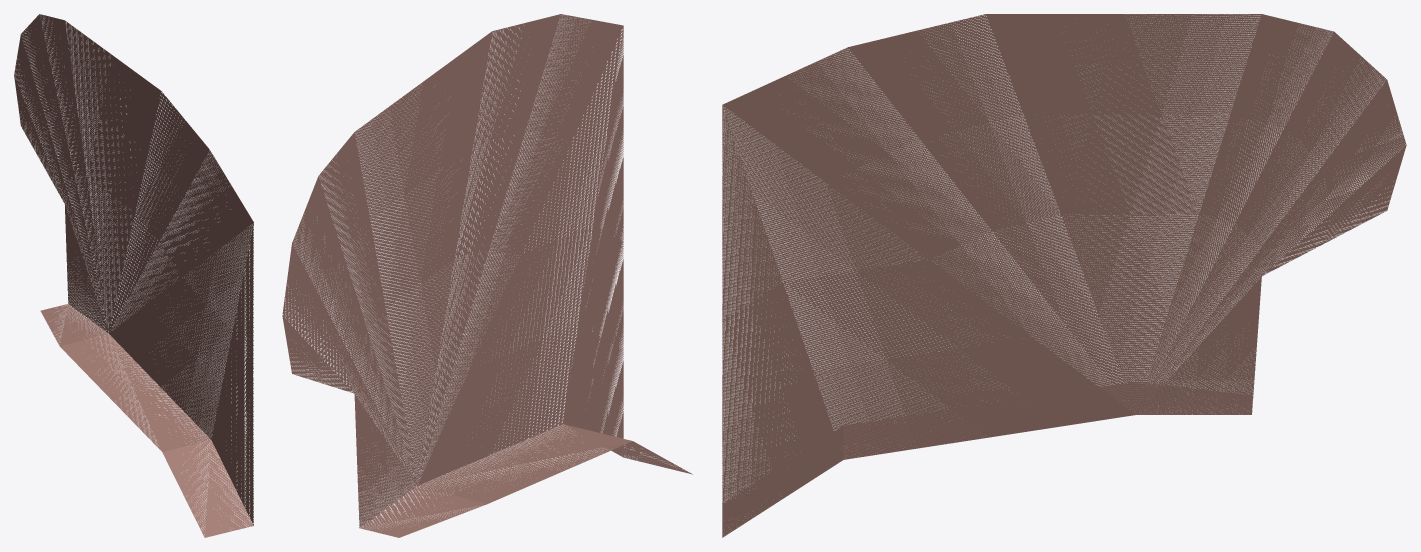
File: SW_ENV_Escalator_TopSteps_Connector_Endcap_Collision.fbx
The picture shows the model from 3 angles, left to right: view 1: azimuth 30°, elevation 25°; view 2: azimuth 150°, elevation 25°; view 3: azimuth 270°, elevation 25°; orthographic projection. The views are drawn at different scales.
Parts seen in each view (by area): view 1: SW_ENV_Escalator_TopSteps_Connector_Endcap_Collision; view 2: SW_ENV_Escalator_TopSteps_Connector_Endcap_Collision; view 3: SW_ENV_Escalator_TopSteps_Connector_Endcap_Collision.
Part boxes in pixels (left/top/right/bottom): SW_ENV_Escalator_TopSteps_Connector_Endcap_Collision: left=14, top=14, right=253, bottom=537; SW_ENV_Escalator_TopSteps_Connector_Endcap_Collision: left=282, top=14, right=692, bottom=537; SW_ENV_Escalator_TopSteps_Connector_Endcap_Collision: left=722, top=14, right=1406, bottom=537.
Bounding box in the file's own units: 17.63 × 126 × 149.
